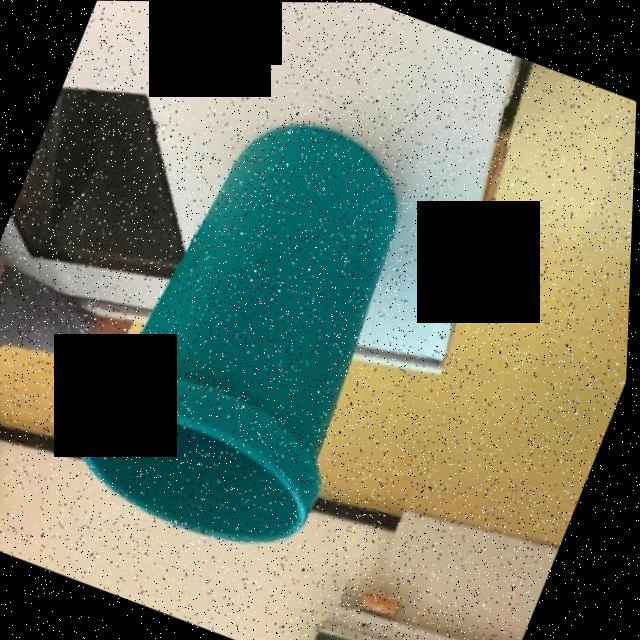bin: (38, 67, 472, 592)
